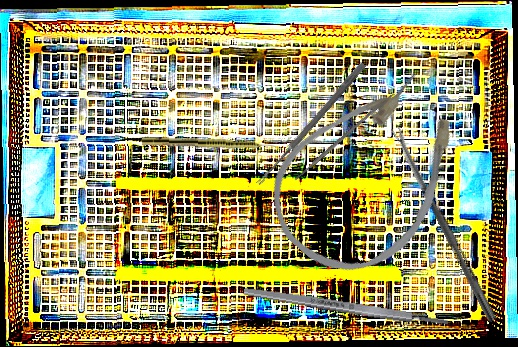Cannula: (246, 46, 496, 301)
Handpiece: (141, 136, 283, 152)
Scalpel Handle: (243, 284, 449, 330), (292, 91, 396, 182)
Surgical Spoon: (390, 125, 499, 323), (255, 60, 367, 188)
